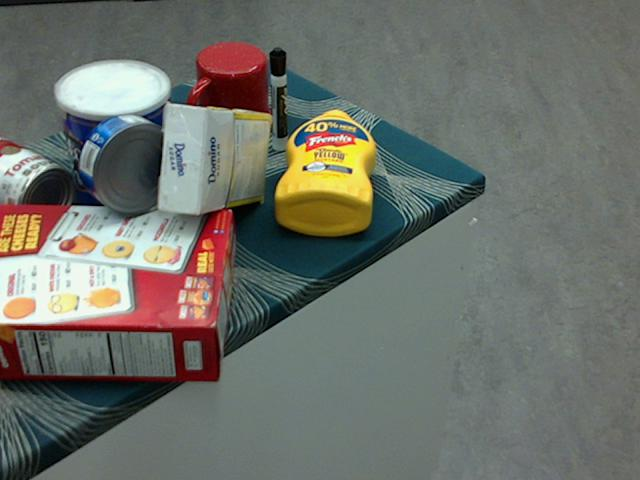cracker_box: (0, 203, 235, 379)
large_marker: (269, 47, 286, 151)
master_chef_can: (56, 62, 177, 240)
mug: (183, 43, 273, 140)
mustard_bottle: (275, 108, 376, 235)
potted_meat_can: (68, 93, 168, 179)
sugar_box: (158, 106, 269, 217)
tomato_soup_can: (0, 131, 73, 228)
tuna_fish_can: (78, 113, 181, 215)
